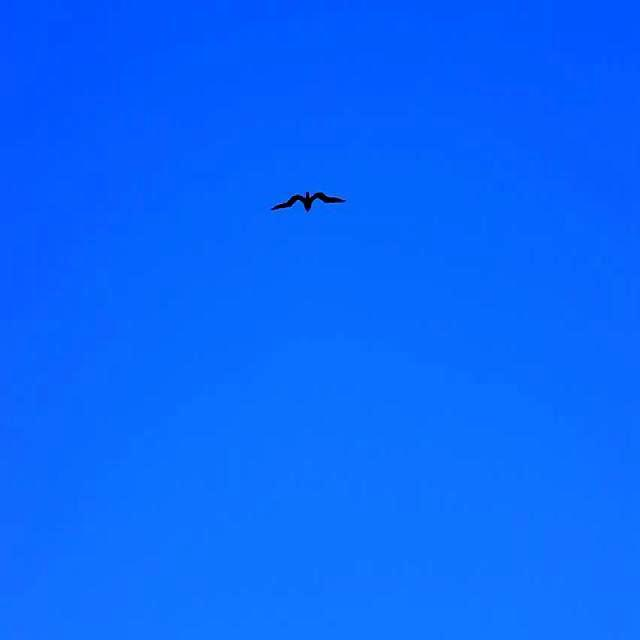bird: (266, 178, 346, 229)
